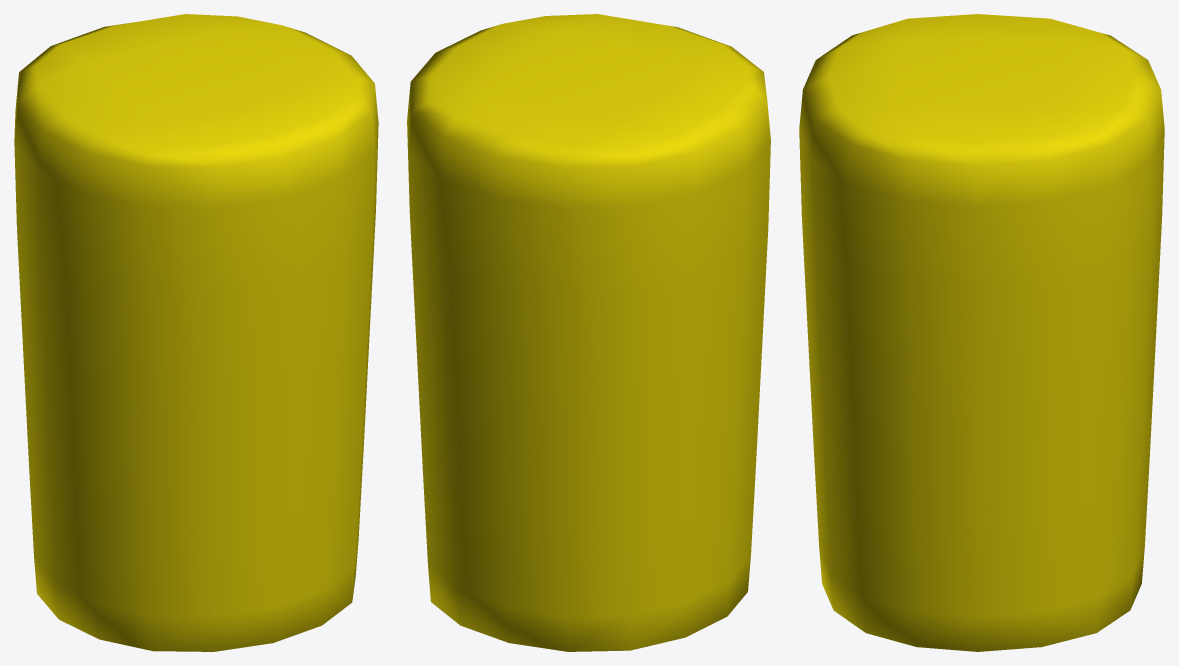
The model's file is Cork.fbx.
3 views of the same model, side by side, from view 1: azimuth 30°, elevation 25°; view 2: azimuth 150°, elevation 25°; view 3: azimuth 270°, elevation 25° (orthographic).
Visible parts, largest first — view 1: Cork; view 2: Cork; view 3: Cork.
Boxes of the visible parts, bbox=[...] form: Cork: bbox=[14, 14, 378, 651]; Cork: bbox=[407, 14, 770, 651]; Cork: bbox=[799, 14, 1164, 651].
Size of the model in its own units: 17.28 by 27.01 by 17.28.
